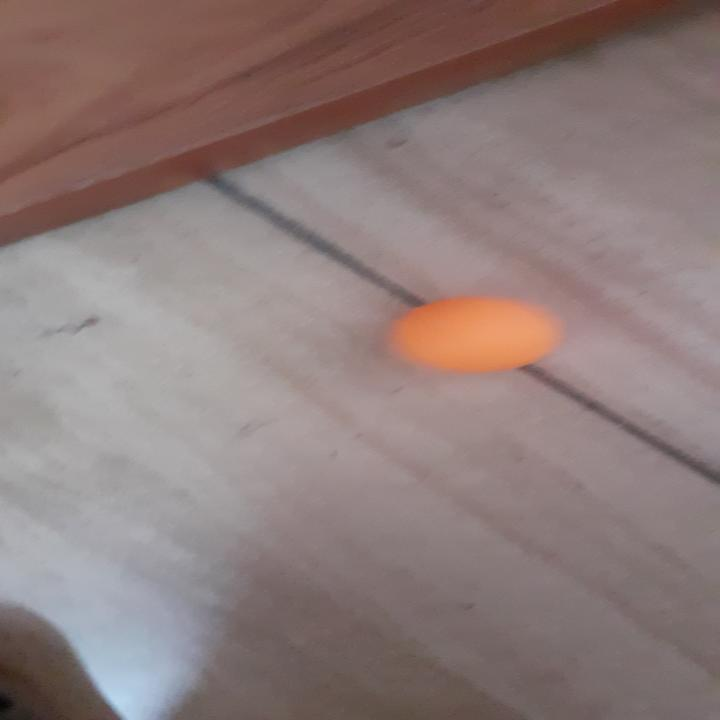orange: (392, 298, 554, 371)
